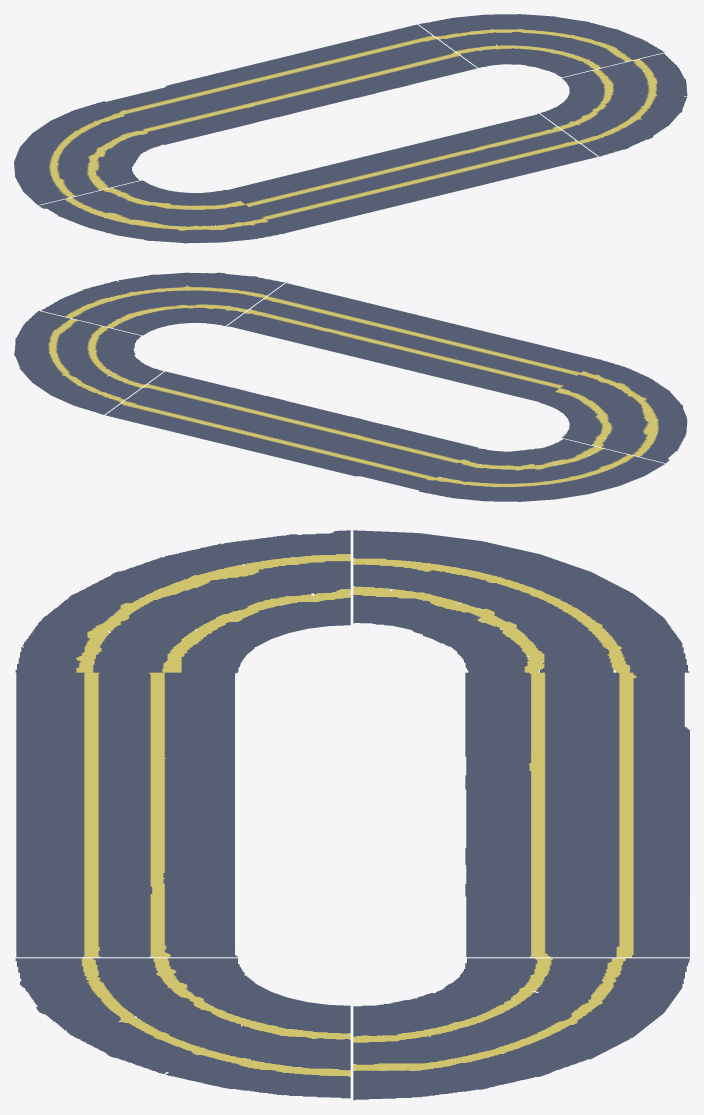
File: pista.obj
3 views of the same model, one above another, from view 1: azimuth 30°, elevation 25°; view 2: azimuth 150°, elevation 25°; view 3: azimuth 270°, elevation 25° (orthographic). The views are drawn at different scales.
Visible parts, largest first — view 1: Plane; view 2: Plane; view 3: Plane.
Part boxes in pixels (left/top/right/bottom): Plane: left=14, top=14, right=687, bottom=243; Plane: left=14, top=272, right=687, bottom=501; Plane: left=15, top=530, right=689, bottom=1100.
Bounding box in the file's own units: 12.02 × 0 × 6.02.
Materials: 1 (1 with a texture image).
